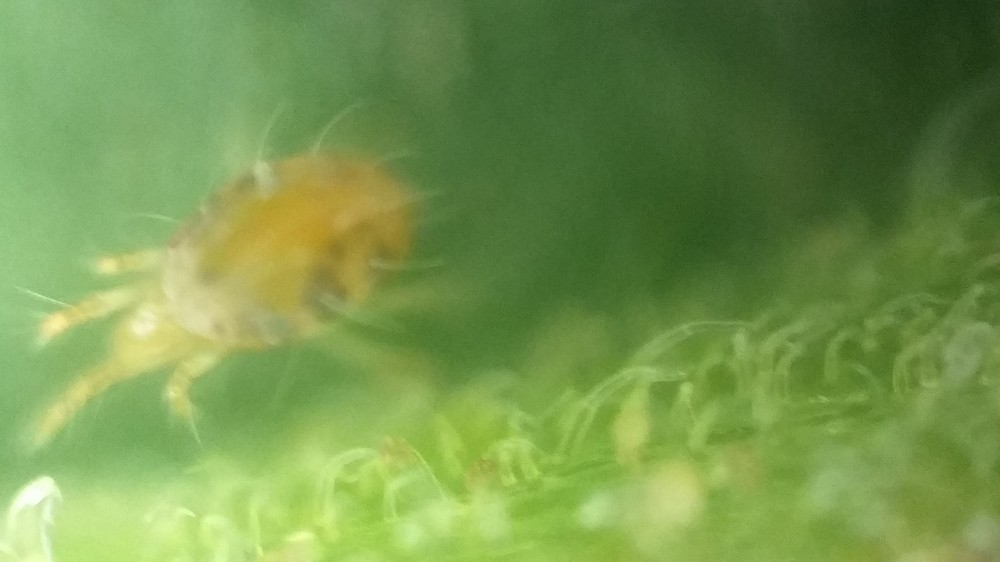Aracnido Rojo: (33, 88, 482, 472)
